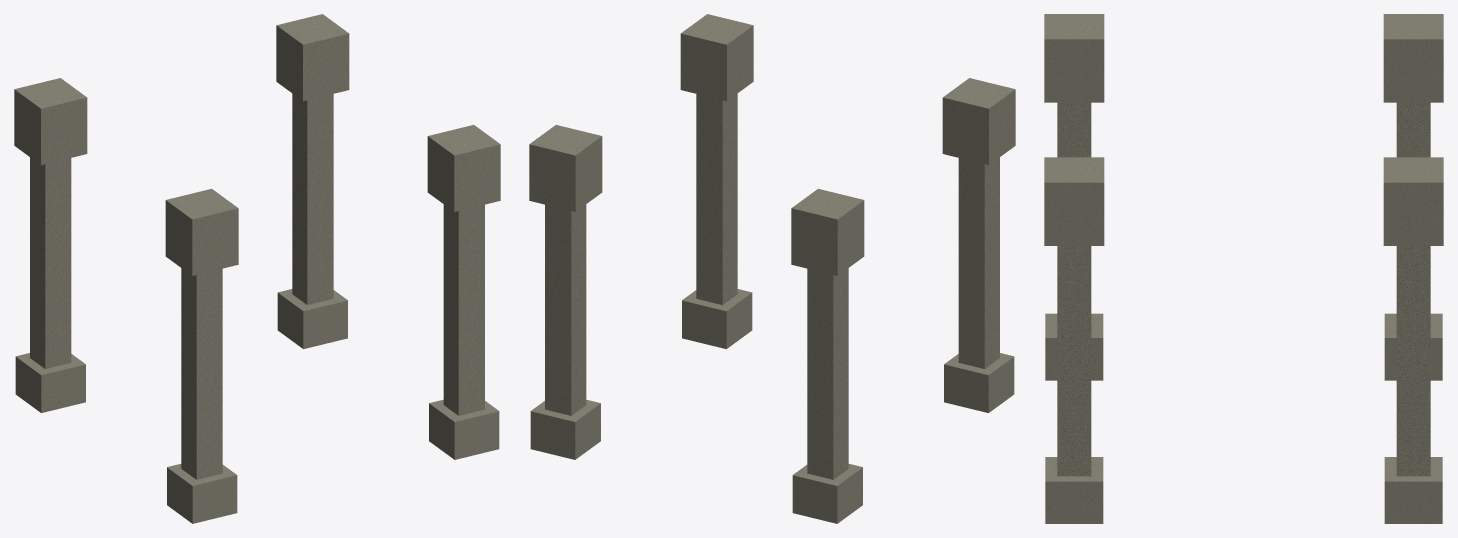
3 views of the same model, side by side, from view 1: azimuth 30°, elevation 25°; view 2: azimuth 150°, elevation 25°; view 3: azimuth 270°, elevation 25° (orthographic). The views are drawn at different scales.
Parts seen in each view (by area): view 1: COL_pier, COL_pier.003, COL_pier.001, COL_pier.002, COL_capital_overhead, COL_capital_overhead.003, COL_capital_overhead.001, COL_capital_overhead.002, COL_pier_base, COL_pier_base.003, COL_pier_base.002, COL_pier_base.001; view 2: COL_pier.001, COL_pier.002, COL_pier, COL_pier.003, COL_capital_overhead.001, COL_capital_overhead.002, COL_capital_overhead, COL_capital_overhead.003, COL_pier_base.001, COL_pier_base.002, COL_pier_base.003, COL_pier_base; view 3: COL_pier.002, COL_pier.003, COL_capital_overhead, COL_capital_overhead.001, COL_capital_overhead.002, COL_capital_overhead.003, COL_pier_base.002, COL_pier_base.003, COL_pier, COL_pier.001, COL_pier_base, COL_pier_base.001.
Part boxes in pixels (x1,y1,x2,y2): COL_pier: (181,268,222,479); COL_pier.003: (292,93,333,304); COL_pier.001: (30,157,71,368); COL_pier.002: (443,204,484,415); COL_capital_overhead: (165,188,238,275); COL_capital_overhead.003: (276,14,349,101); COL_capital_overhead.001: (14,78,87,164); COL_capital_overhead.002: (427,125,500,211); COL_pier_base: (167,464,237,523); COL_pier_base.003: (277,289,347,349); COL_pier_base.002: (429,399,499,459); COL_pier_base.001: (15,353,85,412); COL_pier.001: (807,268,848,479); COL_pier.002: (696,93,737,304); COL_pier: (958,157,999,368); COL_pier.003: (545,204,586,415); COL_capital_overhead.001: (791,188,864,275); COL_capital_overhead.002: (680,14,753,101); COL_capital_overhead: (942,78,1015,164); COL_capital_overhead.003: (529,125,602,211); COL_pier_base.001: (792,464,862,523); COL_pier_base.002: (682,289,752,349); COL_pier_base.003: (530,399,600,459); COL_pier_base: (944,353,1014,412); COL_pier.002: (1057,246,1091,476); COL_pier.003: (1396,246,1430,476); COL_capital_overhead: (1044,14,1104,102); COL_capital_overhead.001: (1383,14,1443,102); COL_capital_overhead.002: (1044,157,1104,245); COL_capital_overhead.003: (1383,157,1443,245); COL_pier_base.002: (1045,457,1103,523); COL_pier_base.003: (1384,457,1442,523); COL_pier: (1057,102,1091,157); COL_pier.001: (1396,102,1430,157); COL_pier_base: (1045,313,1103,380); COL_pier_base.001: (1384,313,1442,380).
Size of the model in its own units: 4 by 3.78 by 4.
1 material, 1 textured.
